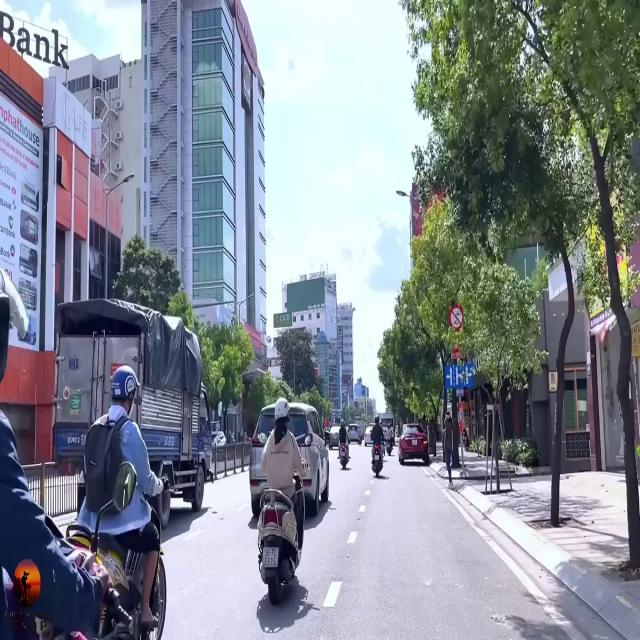bien_trang: (261, 544, 278, 572)
